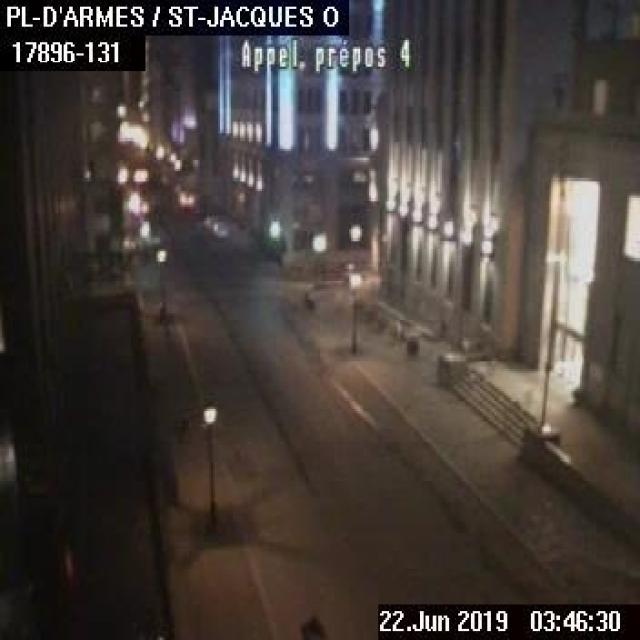vehicle: (210, 218, 228, 238), (202, 211, 218, 228)
